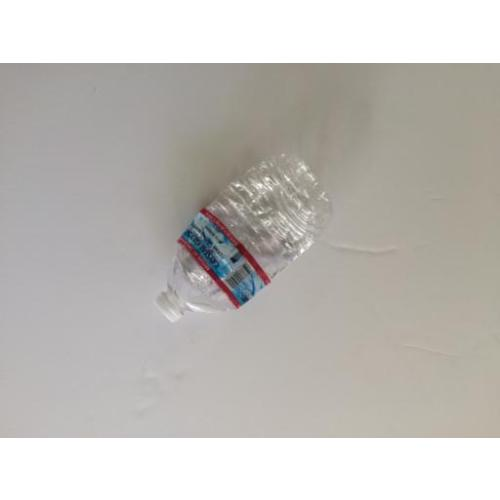plastic: (156, 150, 333, 325)
